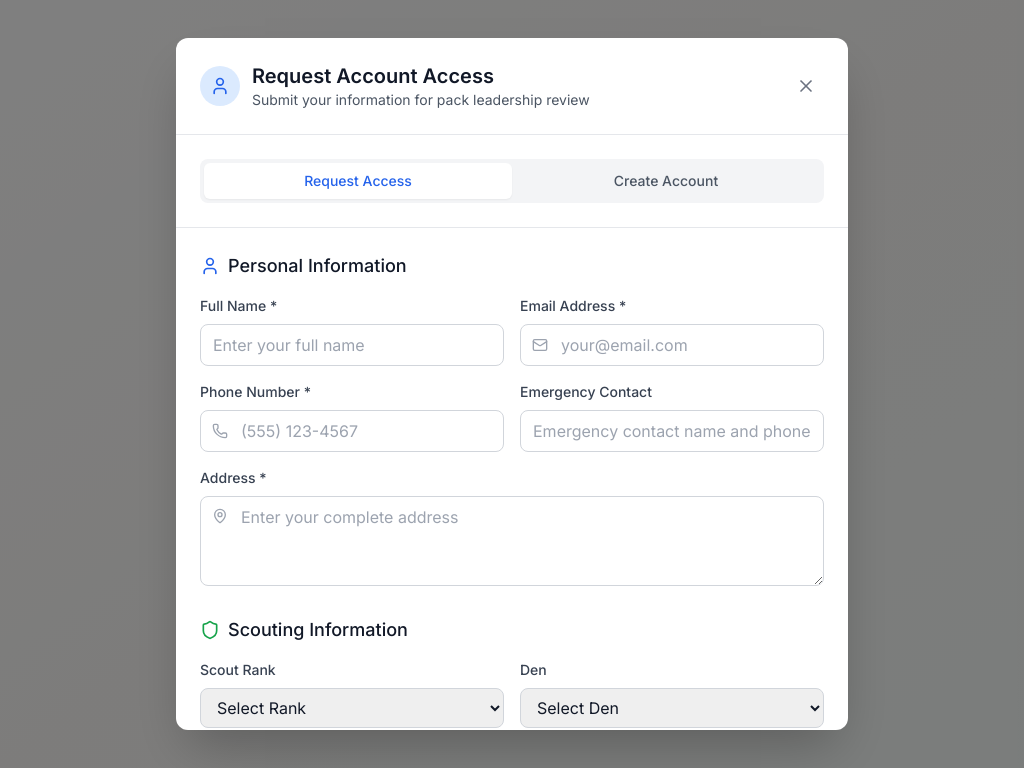
Test: AccountRequestModal › shows error message when submission fails
Type "John Doe" into the field with placeholder "Enter your full name".
click(352, 345); type("John Doe")  # box [200,324,504,366]
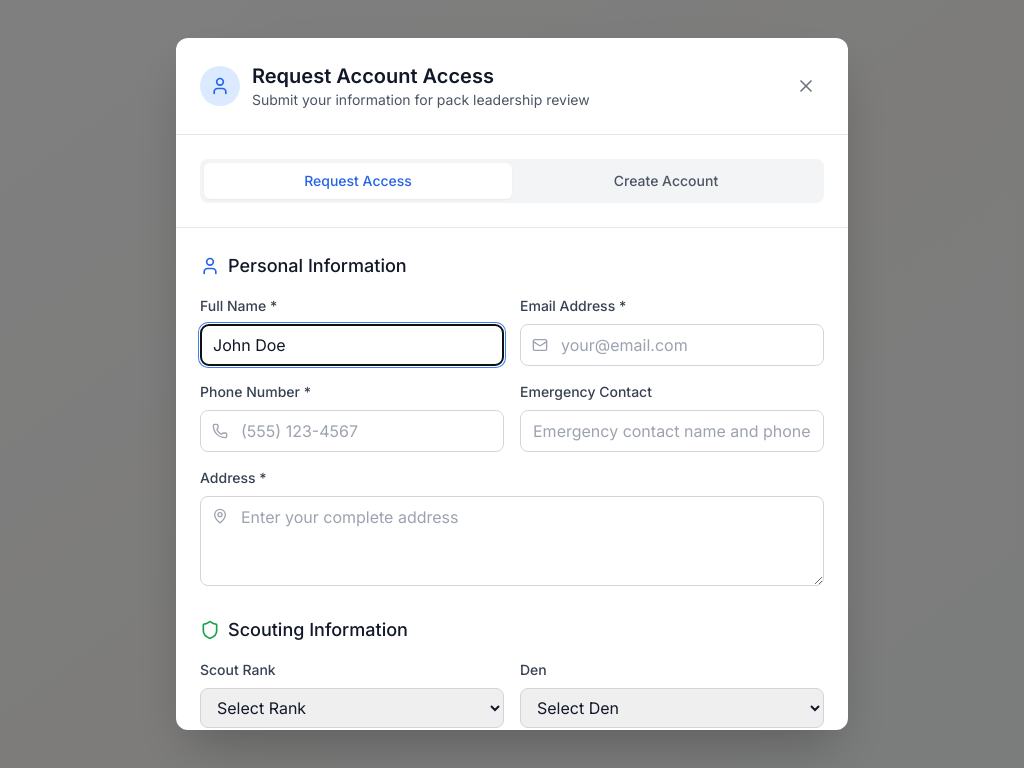
Type "existing@example.com" into the field with placeholder "your@email.com".
click(672, 345); type("existing@example.com")  # box [520,324,824,366]
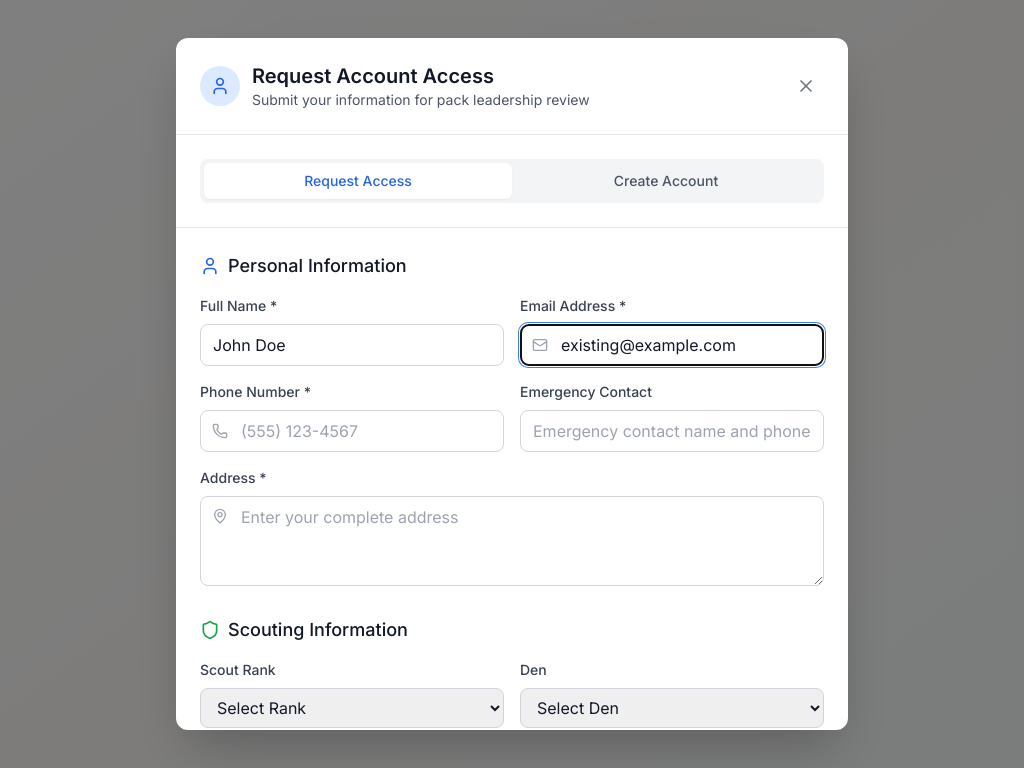
Type "555-1234" into the field with placeholder "(555) 123-4567".
click(352, 431); type("555-1234")  # box [200,410,504,452]
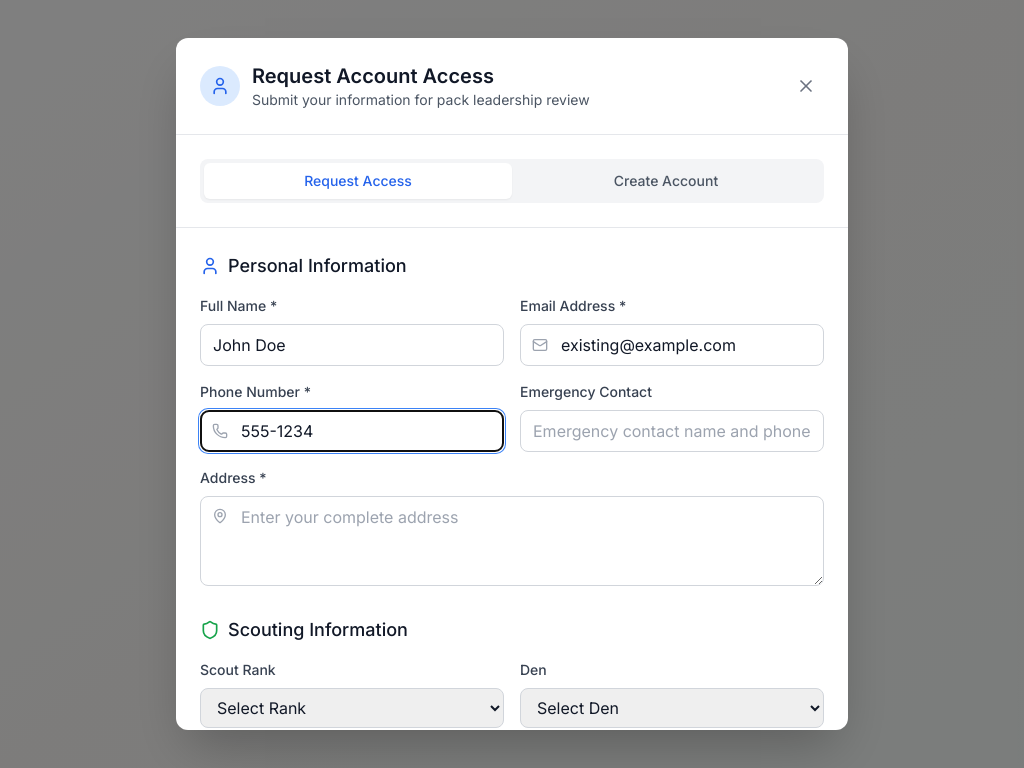
Type "123 Main St" into the text box with placeholder "Enter your complete address".
click(512, 541); type("123 Main St")  # box [200,496,824,586]
(page scrolled)
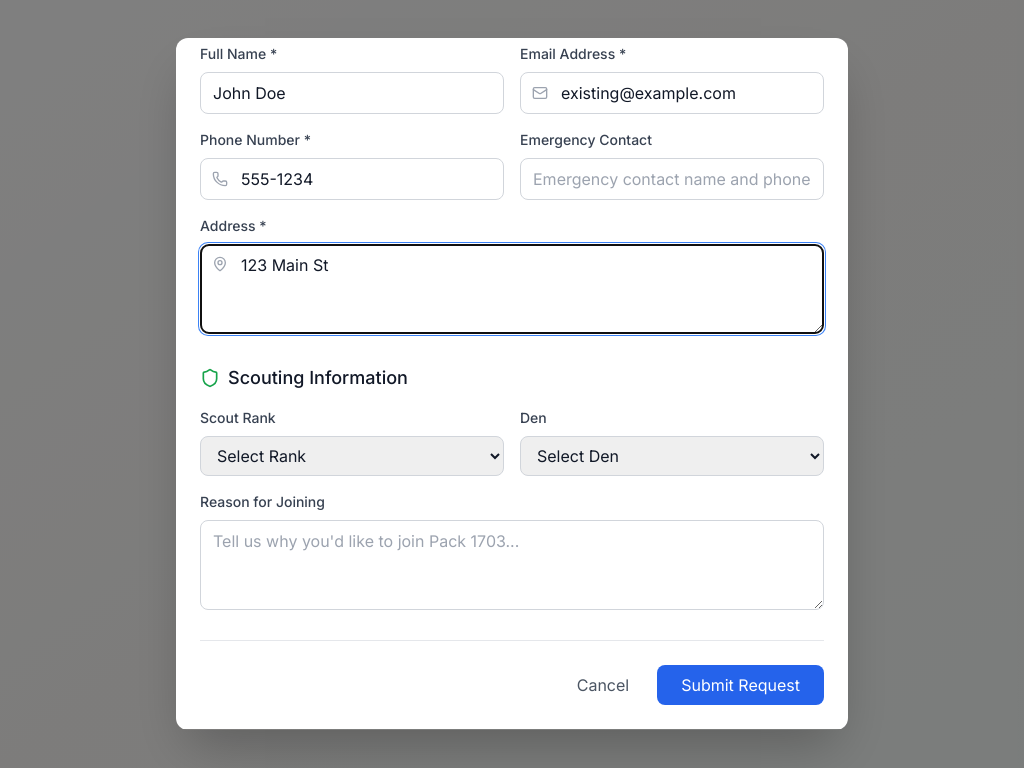
Note: Submit form
Click the button "Submit Request".
click(741, 685)  # box [657,665,824,705]
(page scrolled)
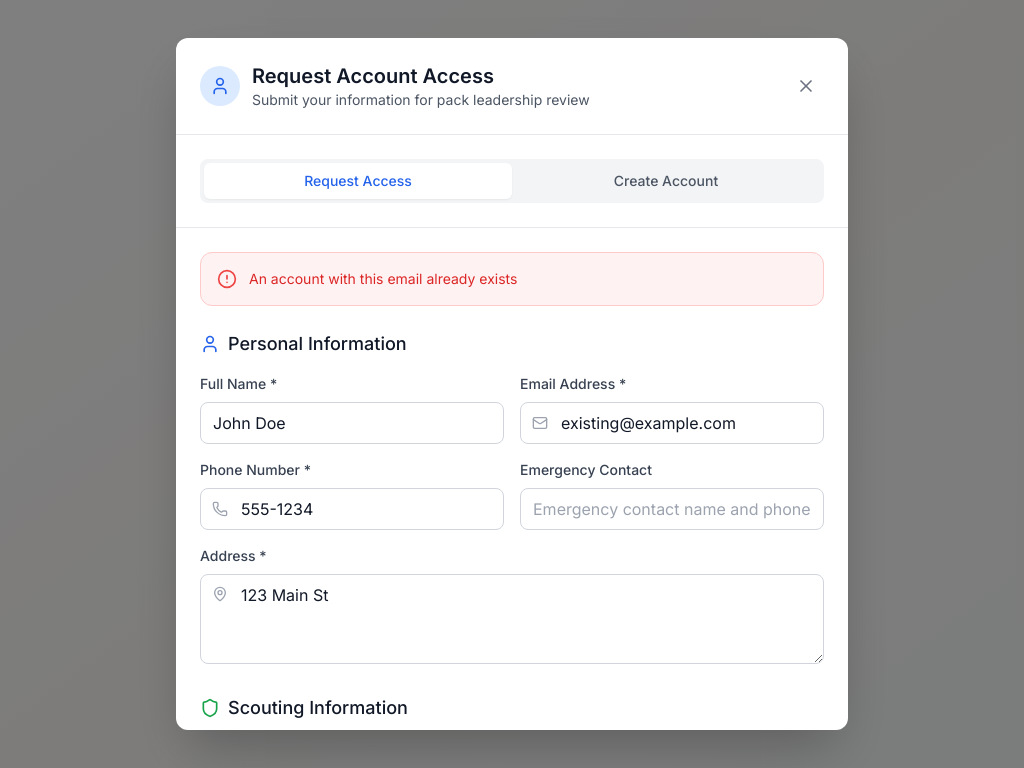
Expected: the text "An account with this email already exists" is shown, [249,269,517,289]
